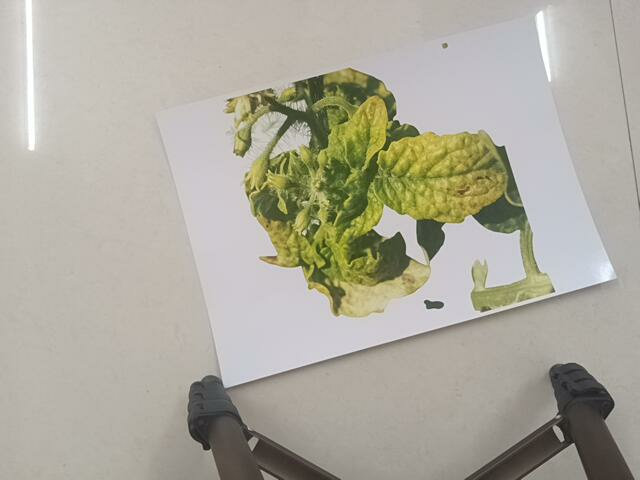Tomamto_Leaf_curl_virus: (219, 92, 566, 307)
